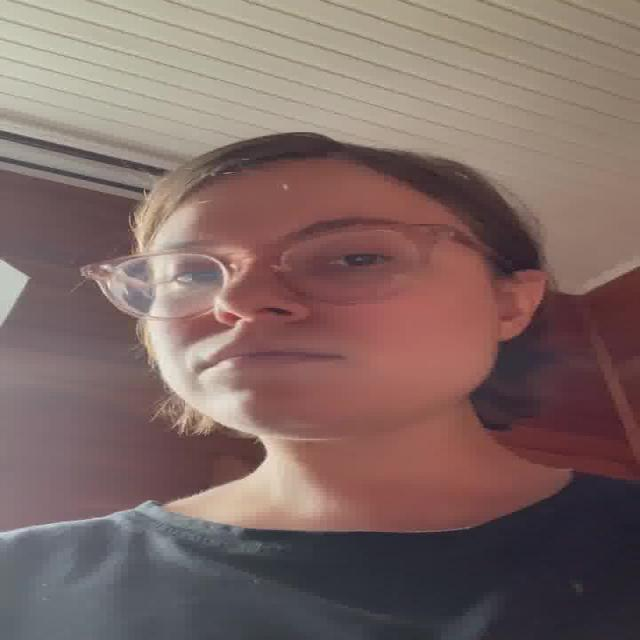earlobe: (492, 319, 526, 342)
eye: (322, 252, 396, 270), (167, 270, 230, 286)
nose: (214, 316, 307, 344)
wholeear: (493, 268, 546, 342)
